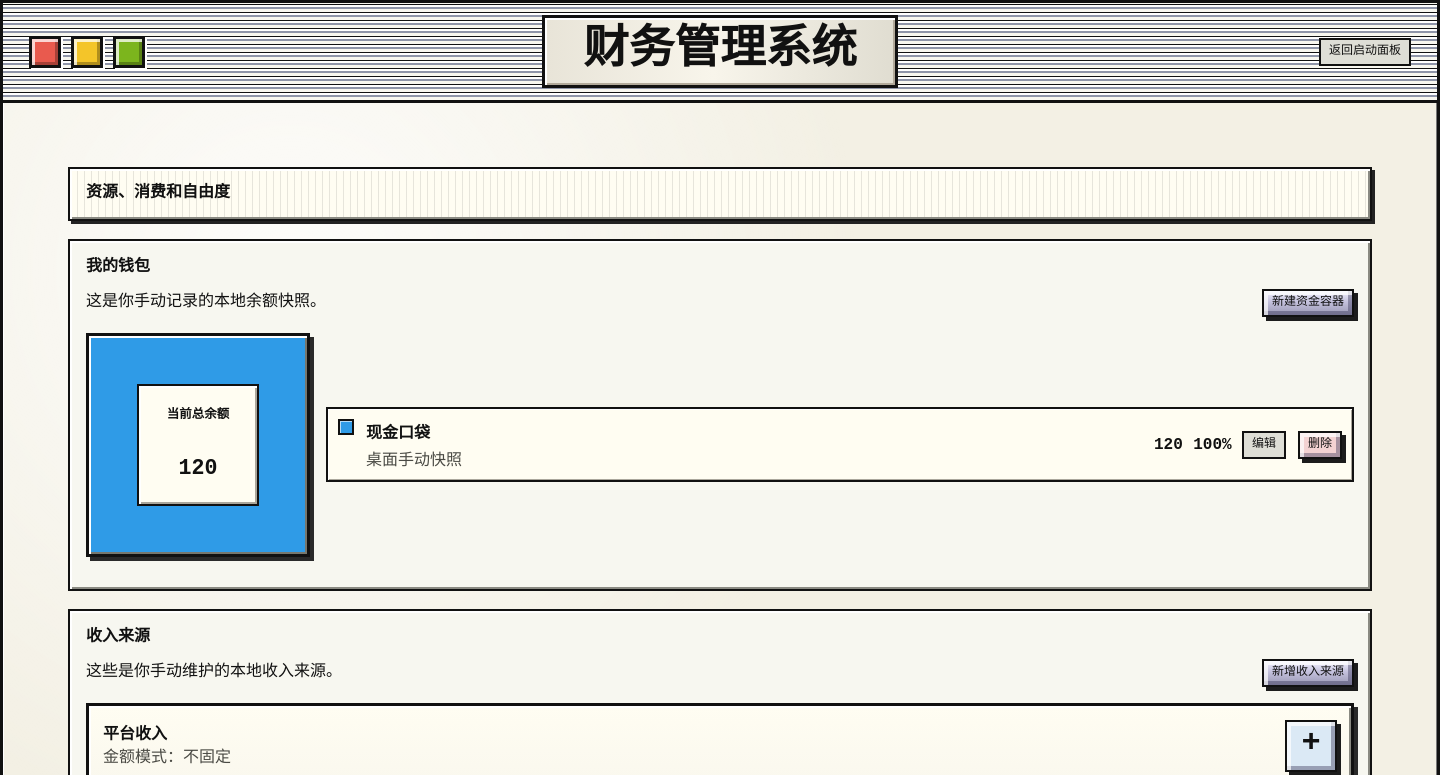
it: FinanceManagementPanel › asks for a received amount before depositing a variable amount income source
The width and height of the screenshot is (1440, 775).
Click the button named "手动入账平台收入": (1311, 746) [1285,720,1337,772]
(page scrolled)
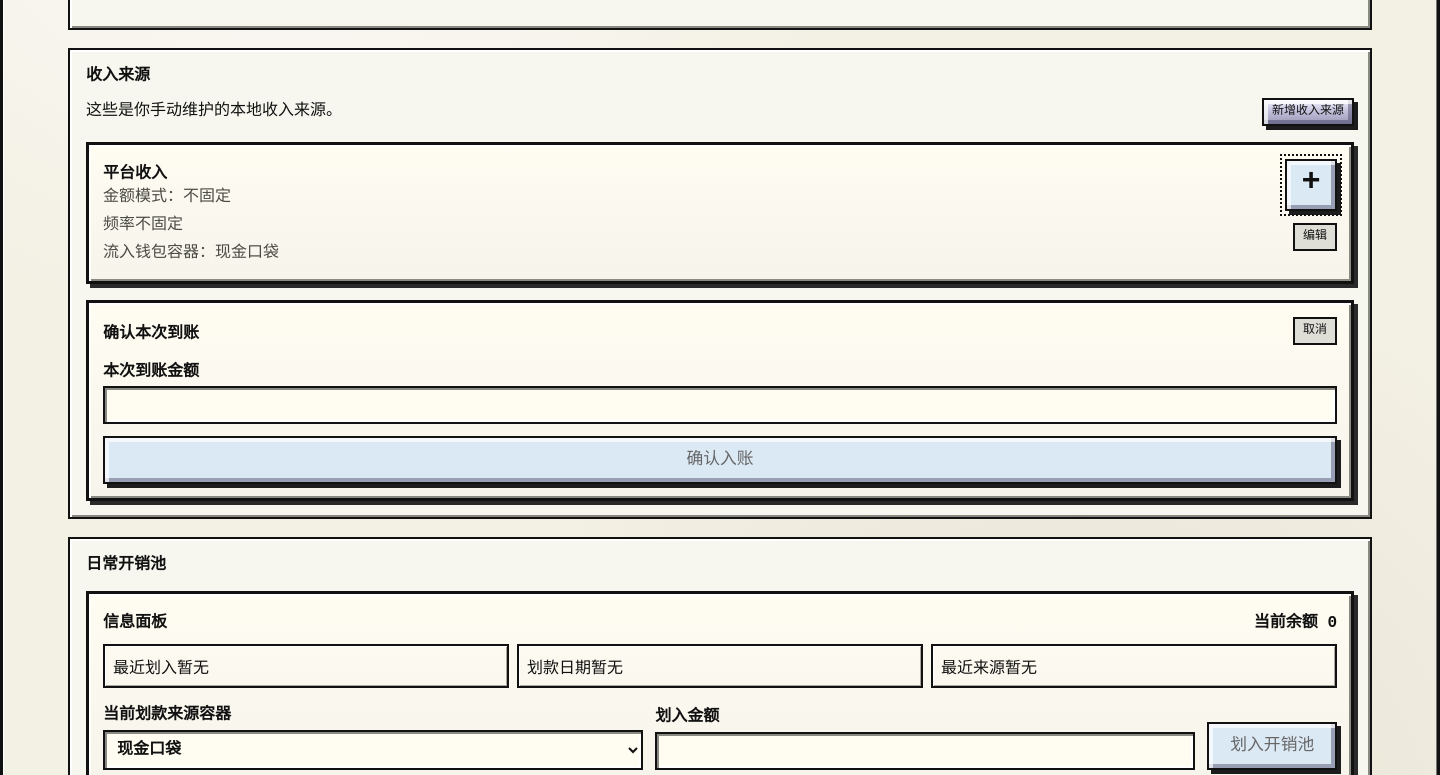
In the number field labelled "本次到账金额": (720, 405) [103,386,1337,424], type "75.5"
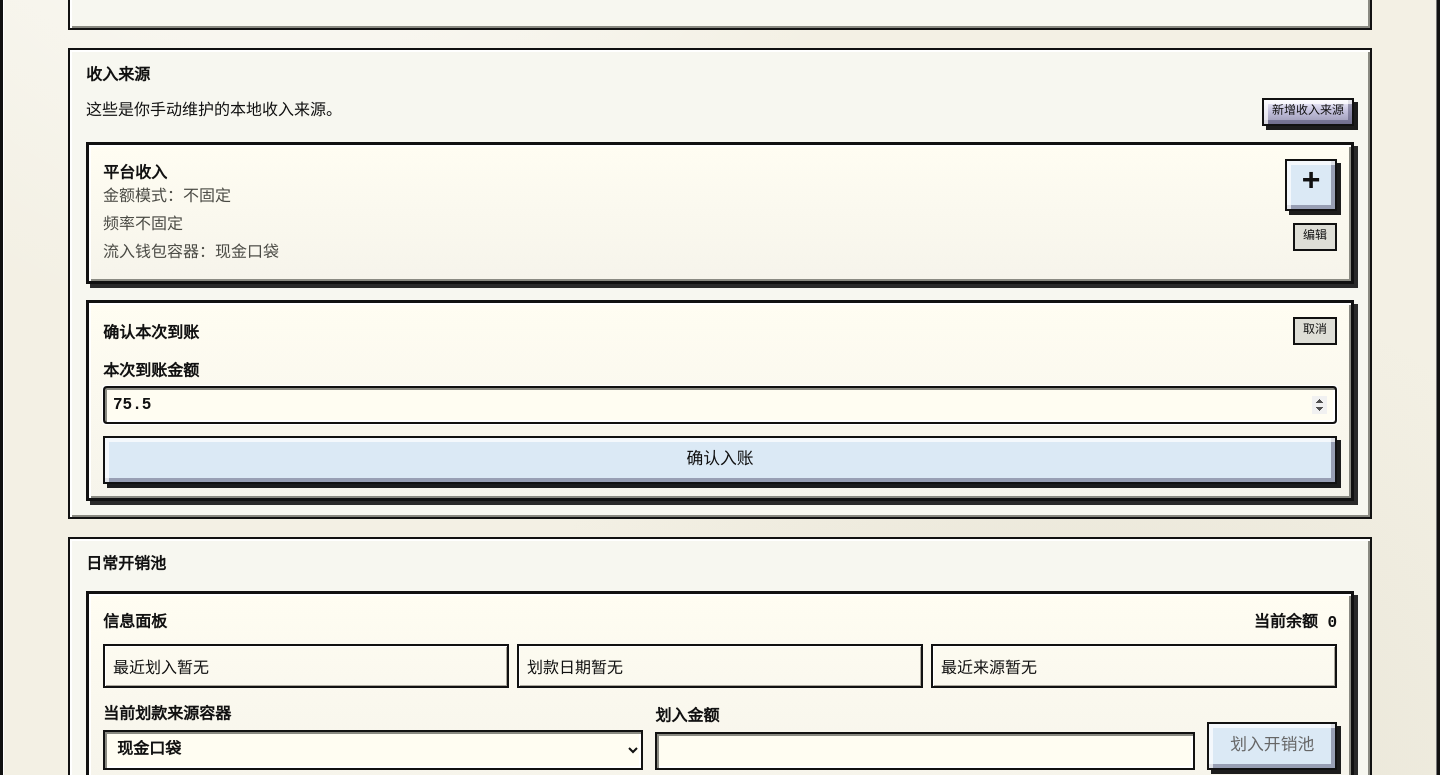
Click the button "确认入账": (720, 460) [103,436,1337,484]
(page scrolled)
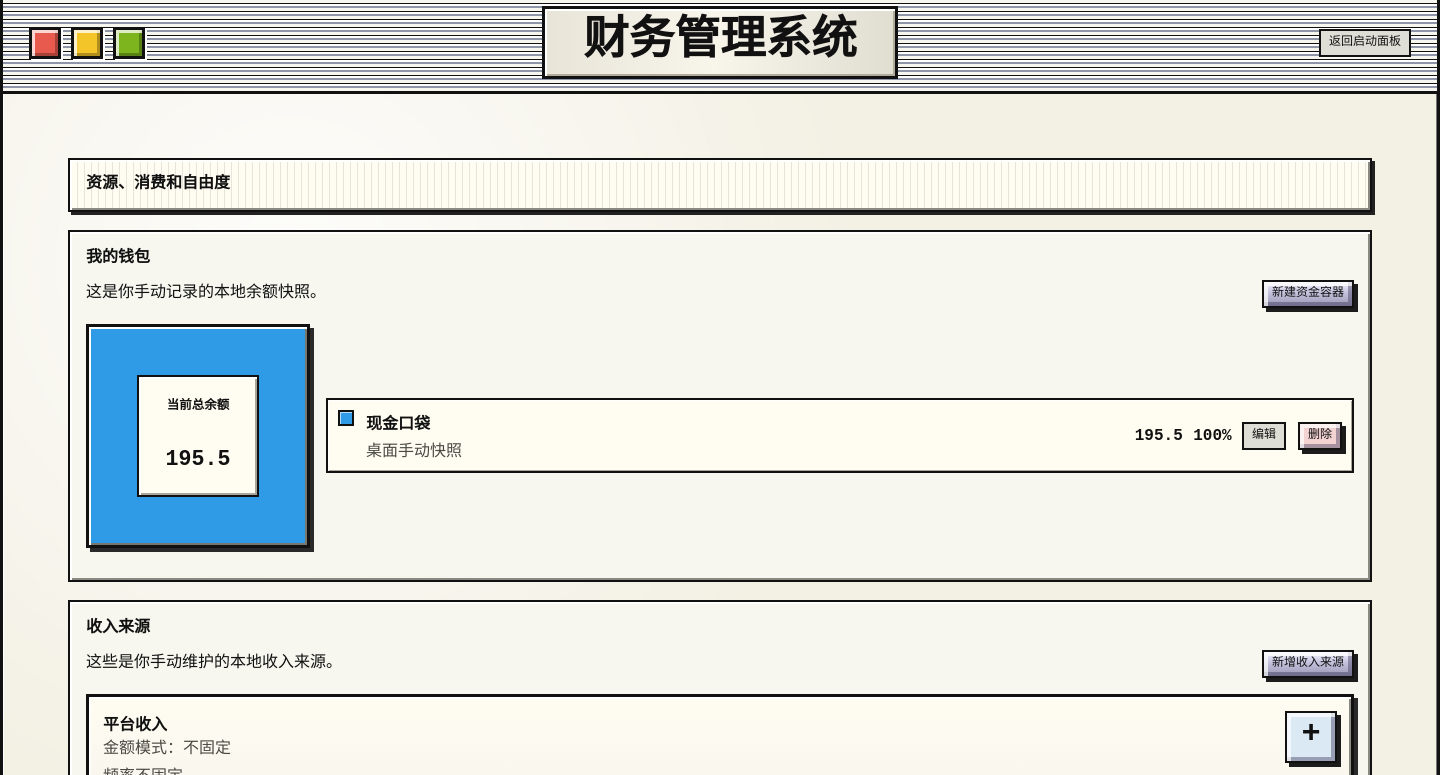
Expected: the element "我的钱包" shows "195.5", [166,448,230,472]
